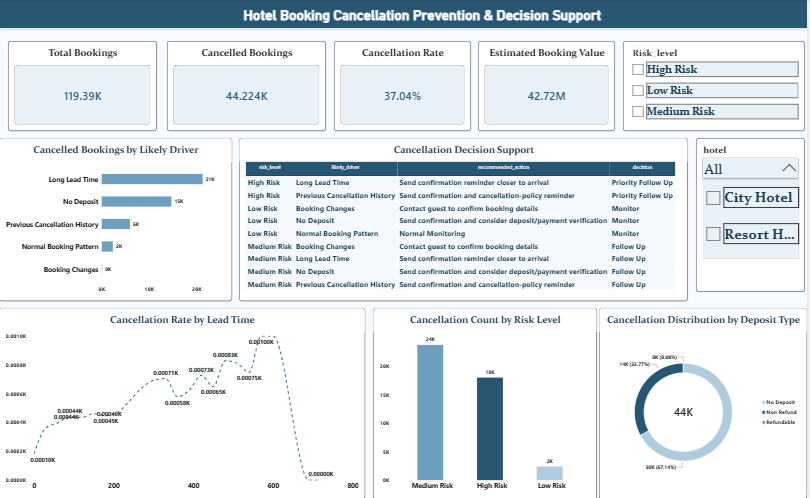

This screenshot's page, from the dashboard's own definition file:
{"tool":"powerbi","page":{"name":"Page 1","canvas":[2100,1300],"ordinal":0},"visuals":[{"type":"cardVisual","title":"Total Bookings","fields":{"Data":["CountNonNull(powerbi_cancellation_data.is_canceled)"]},"box":[23.4,109.2,387.4,234],"z":0},{"type":"cardVisual","title":"Cancelled Bookings","fields":{"Data":["Sum(powerbi_cancellation_data.is_canceled)"]},"box":[436.8,109.2,413.4,234],"z":1000},{"type":"cardVisual","title":"Cancellation Rate","fields":{"Data":["Avg(powerbi_cancellation_data.is_canceled)"]},"box":[871,109.2,356.2,234],"z":2000},{"type":"cardVisual","title":"Estimated Booking Value","fields":{"Data":["Sum(powerbi_cancellation_data.estimated_booking_value)"]},"box":[1245.4,109.2,356.2,234],"z":3000},{"type":"columnChart","title":"Cancellation Count by Risk Level","fields":{"Category":["powerbi_cancellation_data.risk_level"],"Y":["Sum(powerbi_cancellation_data.is_canceled)"]},"box":[972.4,803.4,582.4,496.6],"z":4000},{"type":"donutChart","title":"Cancellation Distribution by Deposit Type","fields":{"Category":["powerbi_cancellation_data.deposit_type"],"Y":["Sum(powerbi_cancellation_data.is_canceled)"]},"box":[1560,803.4,540.8,496.6],"z":5000},{"type":"lineChart","title":"Cancellation Rate by Lead Time","fields":{"Category":["powerbi_cancellation_data.lead_time (bins)"],"Y":["Avg(powerbi_cancellation_data.is_canceled)"]},"box":[0,803.4,951.6,496.6],"z":6000},{"type":"barChart","title":"Cancelled Bookings by Likely Driver","fields":{"Category":["powerbi_cancellation_data.likely_driver"],"Y":["Sum(powerbi_cancellation_data.is_canceled)"]},"box":[0,361.4,605.8,423.8],"z":7000},{"type":"tableEx","title":"Cancellation Decision Support","fields":{"Values":["powerbi_cancellation_data.risk_level","powerbi_cancellation_data.likely_driver","powerbi_cancellation_data.recommended_action","powerbi_cancellation_data.decision"]},"box":[624,361.4,1167.4,423.8],"z":8000},{"type":"slicer","fields":{"Values":["powerbi_cancellation_data.risk_level"]},"box":[1622.4,109.2,473.2,234],"z":9000},{"type":"slicer","fields":{"Values":["powerbi_cancellation_data.hotel"]},"box":[1812.2,361.4,283.4,400.4],"z":10000},{"type":"shape","title":"Hotel Booking Cancellation Prevention & Decision Support","box":[0,0,2199.6,78],"z":11001}]}

Visuals, with their boxes in screenshot pixels (x1, y1, x2, y2), scaled from the page's 2100x1300 canvas onto the 810x498 screenshot:
"Total Bookings" cardVisual: left=9, top=42, right=158, bottom=131
"Cancelled Bookings" cardVisual: left=168, top=42, right=328, bottom=131
"Cancellation Rate" cardVisual: left=336, top=42, right=473, bottom=131
"Estimated Booking Value" cardVisual: left=480, top=42, right=618, bottom=131
"Cancellation Count by Risk Level" columnChart: left=375, top=308, right=600, bottom=497
"Cancellation Distribution by Deposit Type" donutChart: left=602, top=308, right=809, bottom=497
"Cancellation Rate by Lead Time" lineChart: left=0, top=308, right=367, bottom=497
"Cancelled Bookings by Likely Driver" barChart: left=0, top=138, right=234, bottom=301
"Cancellation Decision Support" tableEx: left=241, top=138, right=691, bottom=301
slicer - powerbi_cancellation_data.risk_level: left=626, top=42, right=808, bottom=131
slicer - powerbi_cancellation_data.hotel: left=699, top=138, right=808, bottom=292
"Hotel Booking Cancellation Prevention & Decision Support" shape: left=0, top=0, right=809, bottom=30
